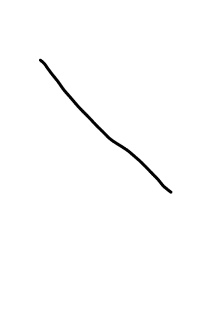Line: (36, 56, 177, 197)
